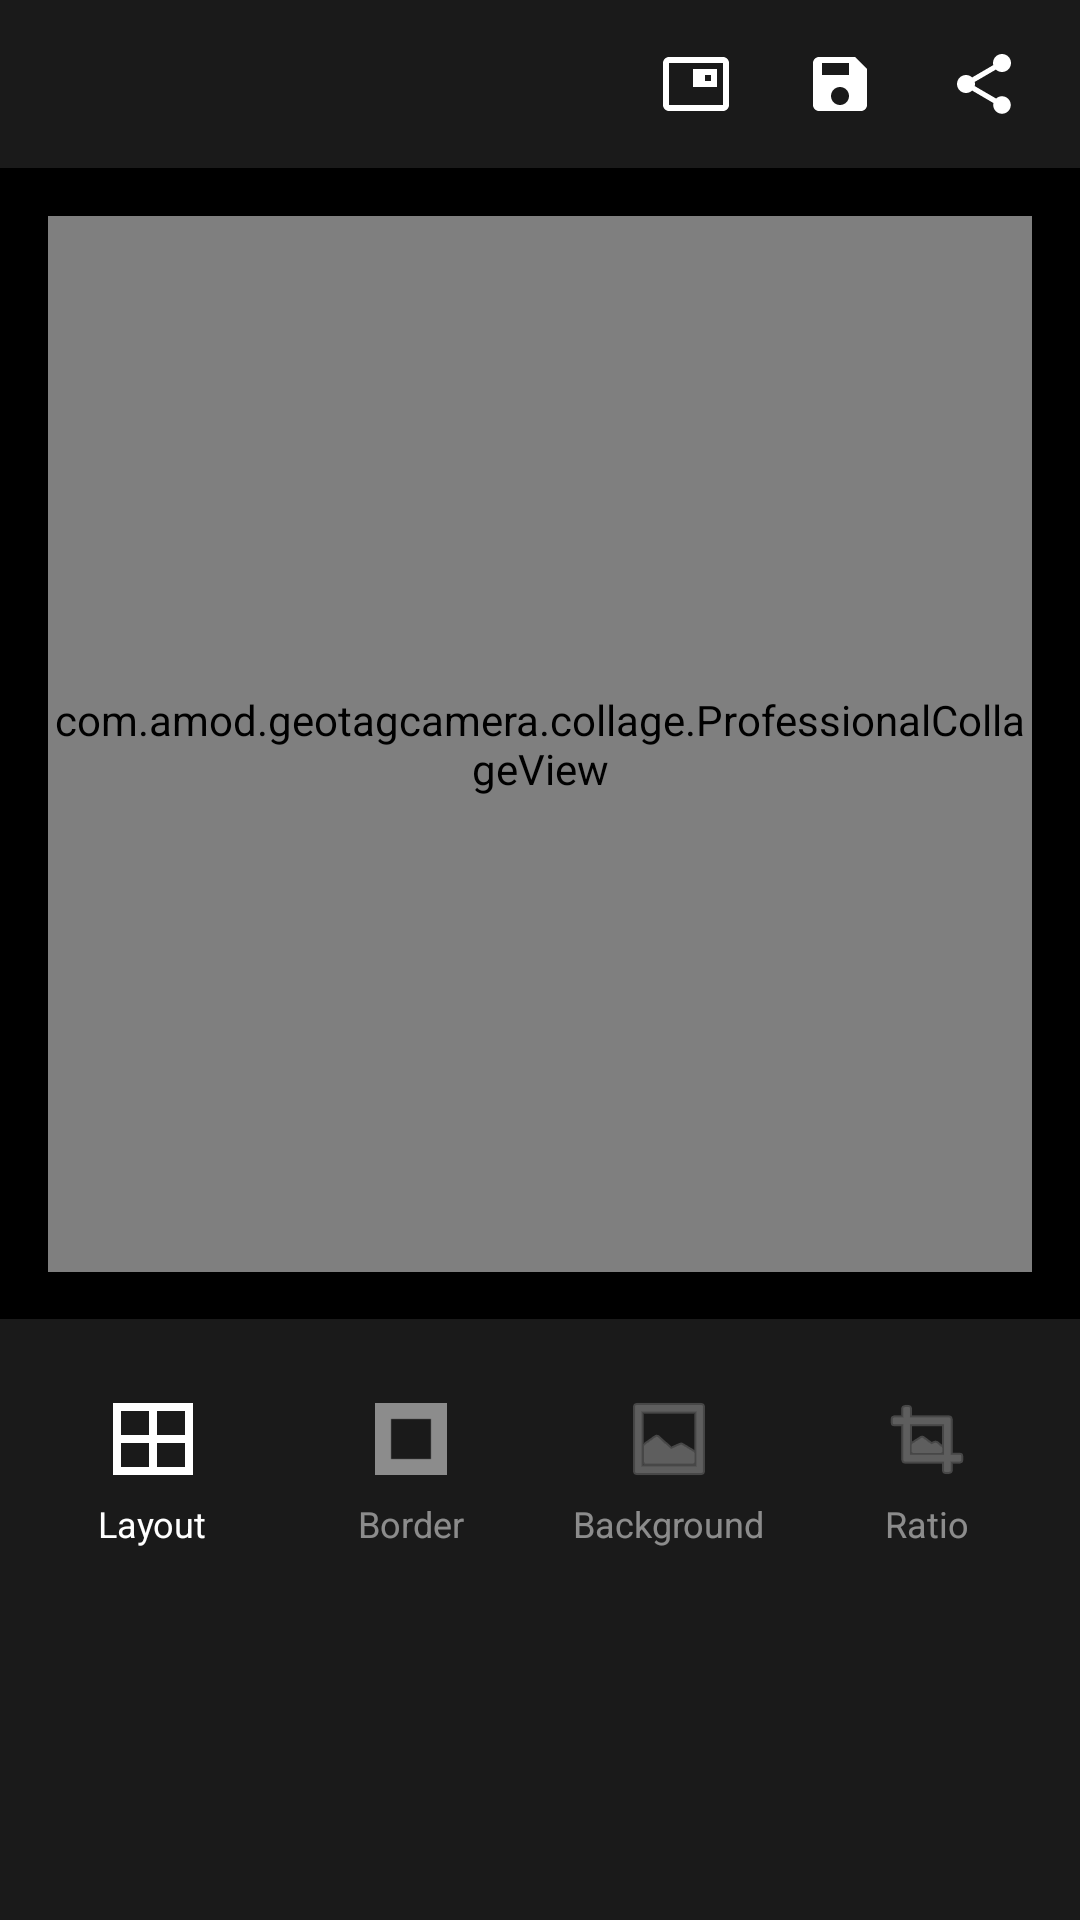

Icon click points for this 1080 x 1920 phone screenshot, format [x,y]:
crop: [927,1439]
gallery: [669,1439]
Save: [840,84]
Share: [984,84]
